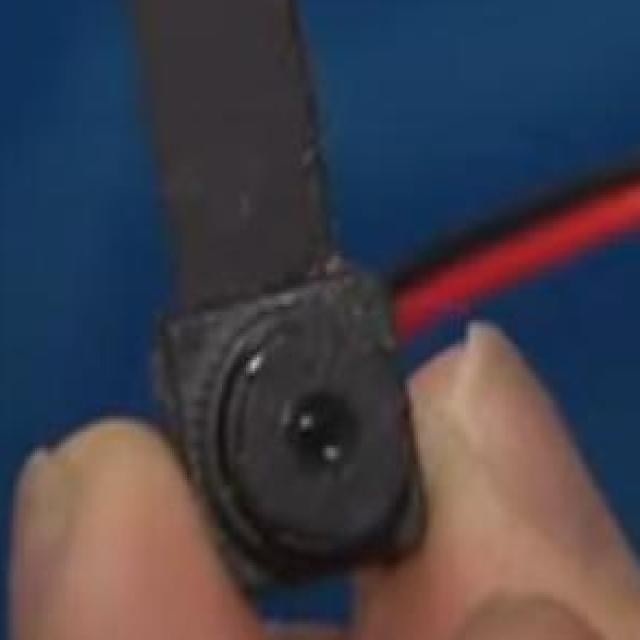hidden camera: (229, 309, 412, 568)
